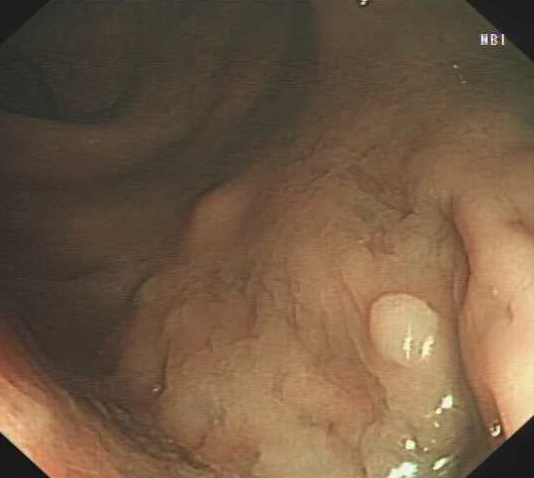others: (366, 289, 442, 371)
